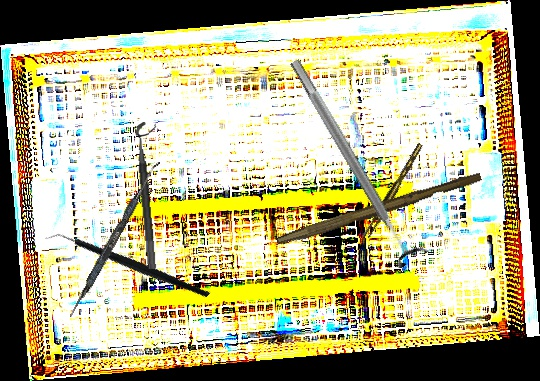Chopper: (44, 186, 211, 346)
Fixation Ring: (277, 51, 431, 271), (134, 120, 169, 270)
Scalpel Handle: (275, 167, 483, 252)
Spatula Surgical: (67, 158, 161, 320)
Tissue Forceps: (359, 142, 428, 241)
